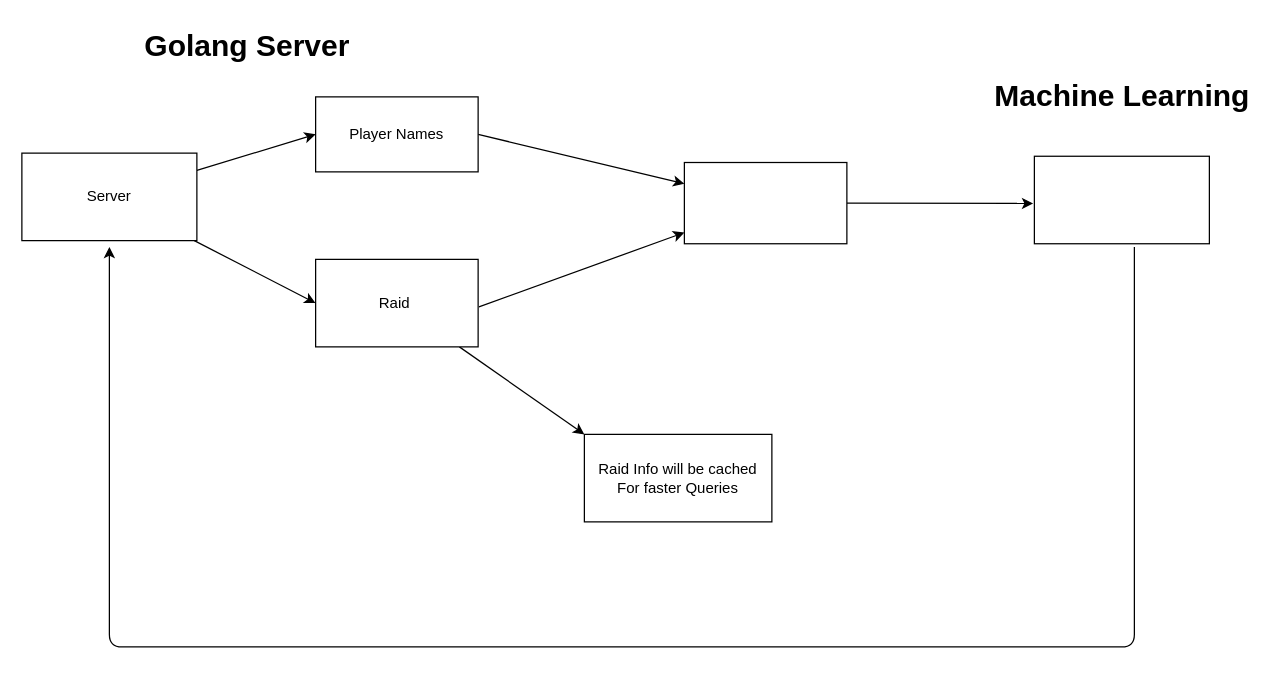
The diagram is 1271 pixels wide and 679 high, and some of its shapes have lost their labels. The shapes that lost their labels are listed below. From the top down, each one's box as (x1, y1, x2, y2) in pixels, then its label:
(683, 161, 847, 244): Wow Api
(1033, 155, 1209, 244): Analyzing Player Stats And Raid
